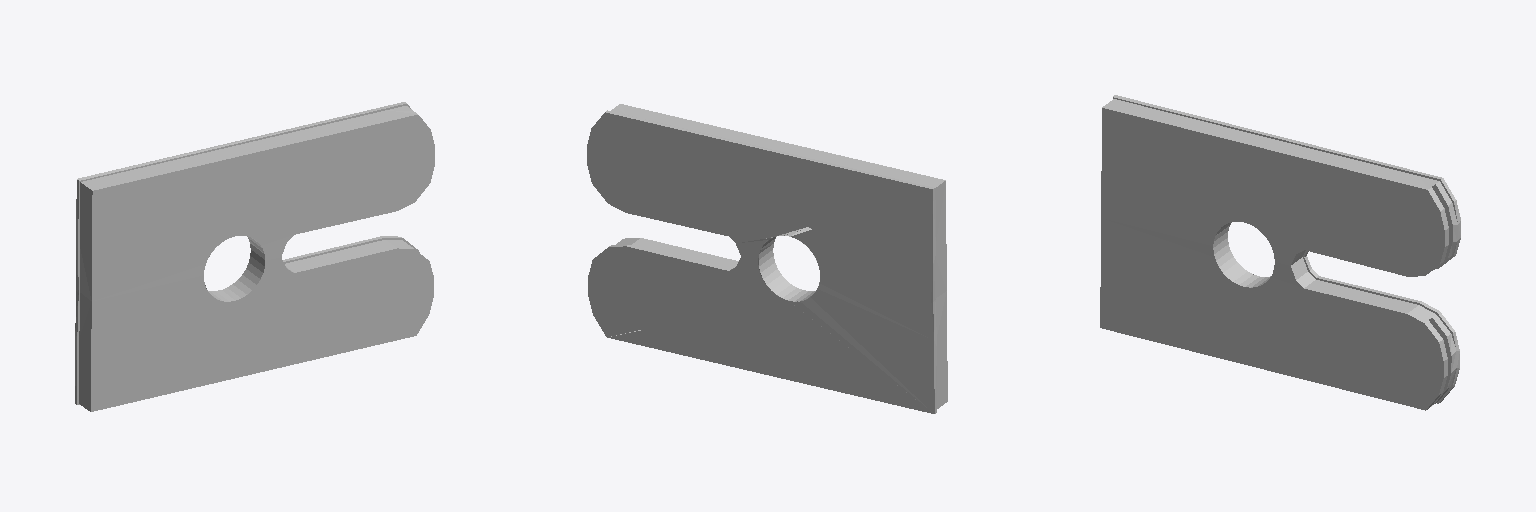
File: lower_hull_fin2.obj
3 renders of one model, left to right at view 1: azimuth 30°, elevation 25°; view 2: azimuth 150°, elevation 25°; view 3: azimuth 330°, elevation 25°, orthographic.
Visible parts, largest first — view 1: lower_hull_obj11.001; view 2: lower_hull_obj11.001; view 3: lower_hull_obj11.001.
Boxes of the visible parts, <box> form: lower_hull_obj11.001: <box>75,102,434,411</box>; lower_hull_obj11.001: <box>587,104,947,413</box>; lower_hull_obj11.001: <box>1100,95,1460,410</box>.
Bounding box in the file's own units: 0.601 × 0.3759 × 0.044.